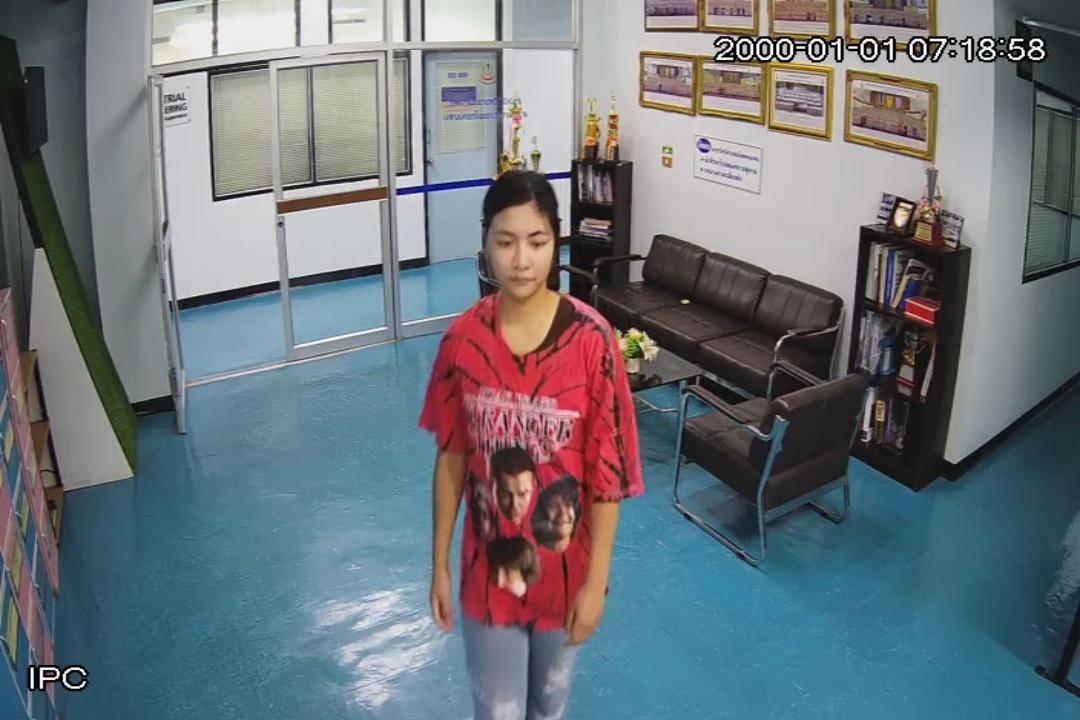normal: (431, 168, 642, 720)
